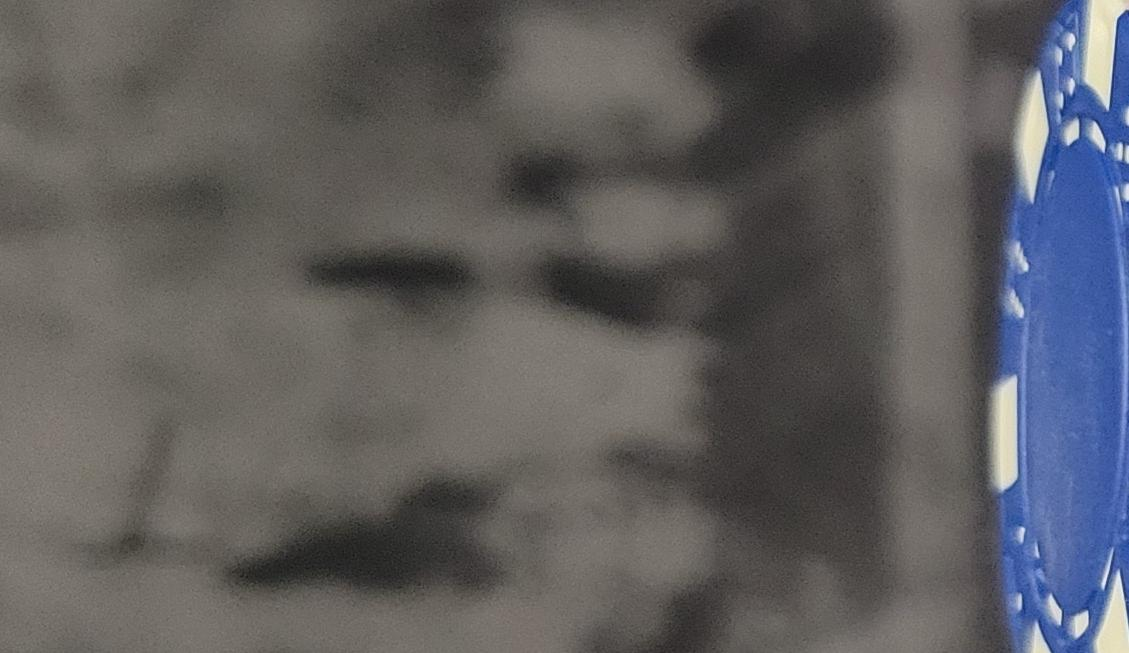Chip: (1, 409, 808, 653)
